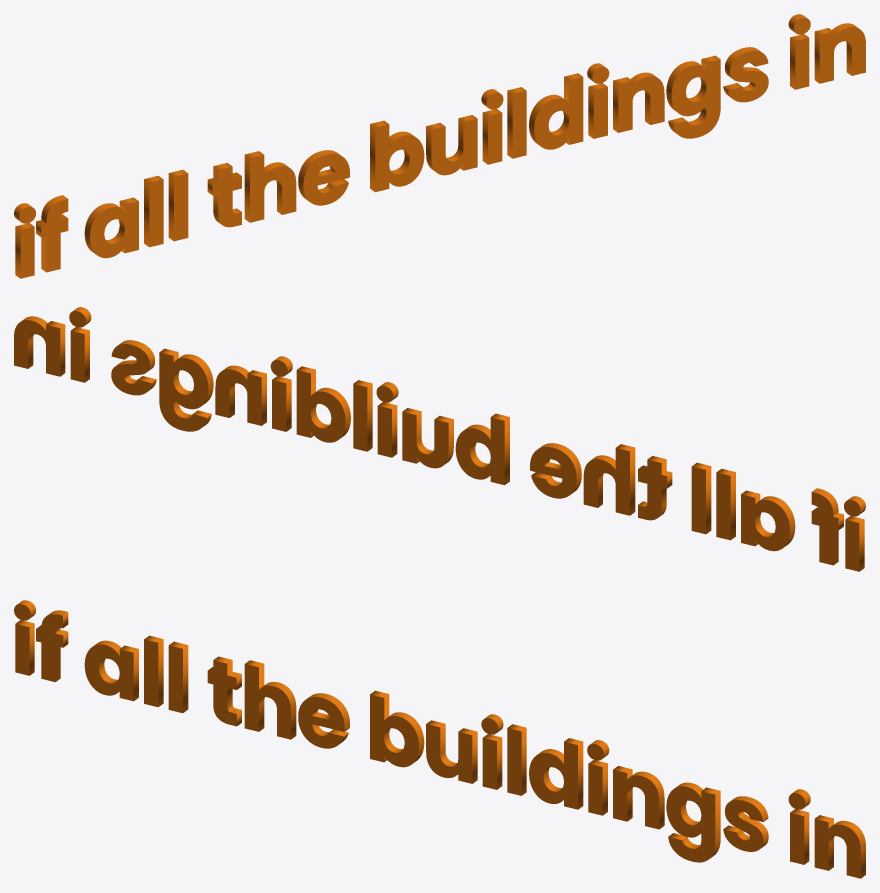
File: yazi1.gltf
3 views of the same model, one above another, from view 1: azimuth 30°, elevation 25°; view 2: azimuth 150°, elevation 25°; view 3: azimuth 330°, elevation 25° (orthographic).
Visible parts, largest first — view 1: Text.065; view 2: Text.065; view 3: Text.065.
Part boxes in pixels (left/top/right/bottom): Text.065: left=14, top=14, right=865, bottom=278; Text.065: left=14, top=307, right=865, bottom=571; Text.065: left=14, top=600, right=865, bottom=878.
Bounding box in the file's own units: 0.4107 × 0.0435 × 0.00435.
